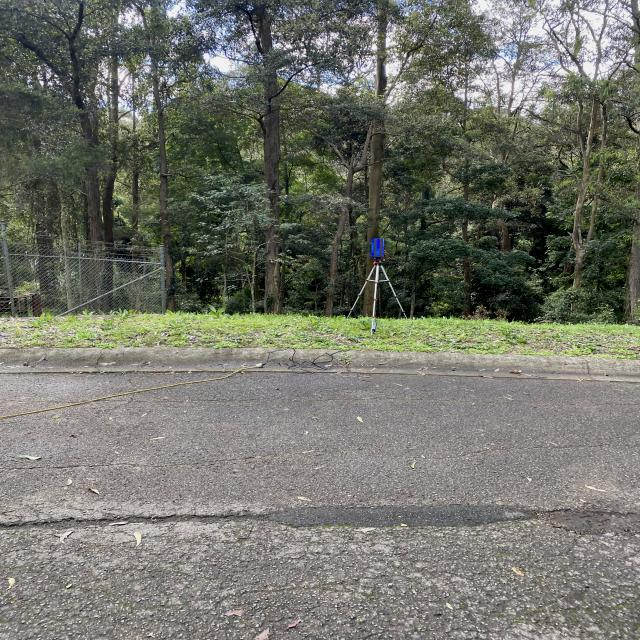matrix: (369, 238, 386, 258)
